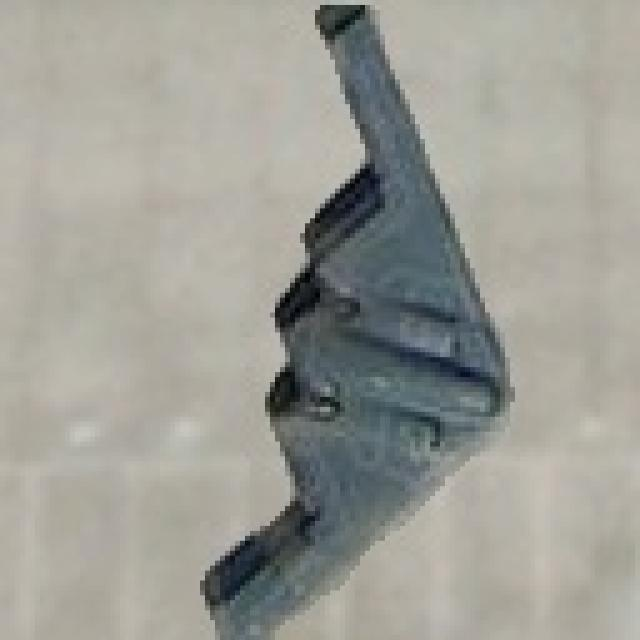B-2_TopDown: (190, 0, 515, 635)
